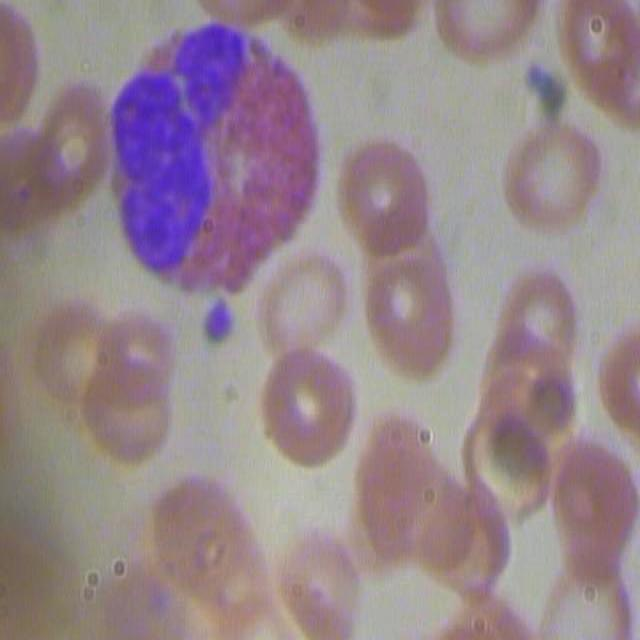RBC: (370, 425, 504, 582), (484, 263, 559, 522), (58, 301, 180, 456), (149, 488, 286, 623), (535, 440, 629, 605), (357, 238, 461, 374), (254, 347, 355, 468), (500, 120, 602, 237), (284, 523, 382, 636), (418, 576, 582, 640), (561, 2, 640, 134), (30, 85, 105, 208), (598, 284, 638, 487), (430, 0, 544, 67), (0, 2, 43, 134)
WBC: (115, 25, 250, 284), (219, 31, 335, 239)
platelets: (518, 53, 565, 122), (200, 297, 238, 348)
